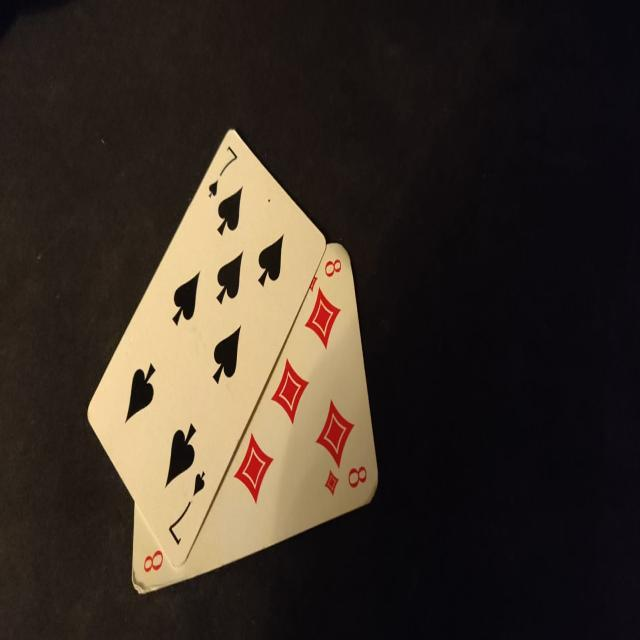Diamond: (234, 433, 273, 505), (316, 399, 355, 468), (271, 357, 309, 425), (305, 286, 341, 350), (324, 468, 340, 496)
Spade: (166, 423, 196, 487), (125, 362, 156, 422), (213, 325, 241, 385), (216, 250, 244, 305), (172, 271, 200, 325), (258, 234, 284, 287), (217, 186, 243, 237), (193, 471, 205, 496), (209, 180, 218, 199)
